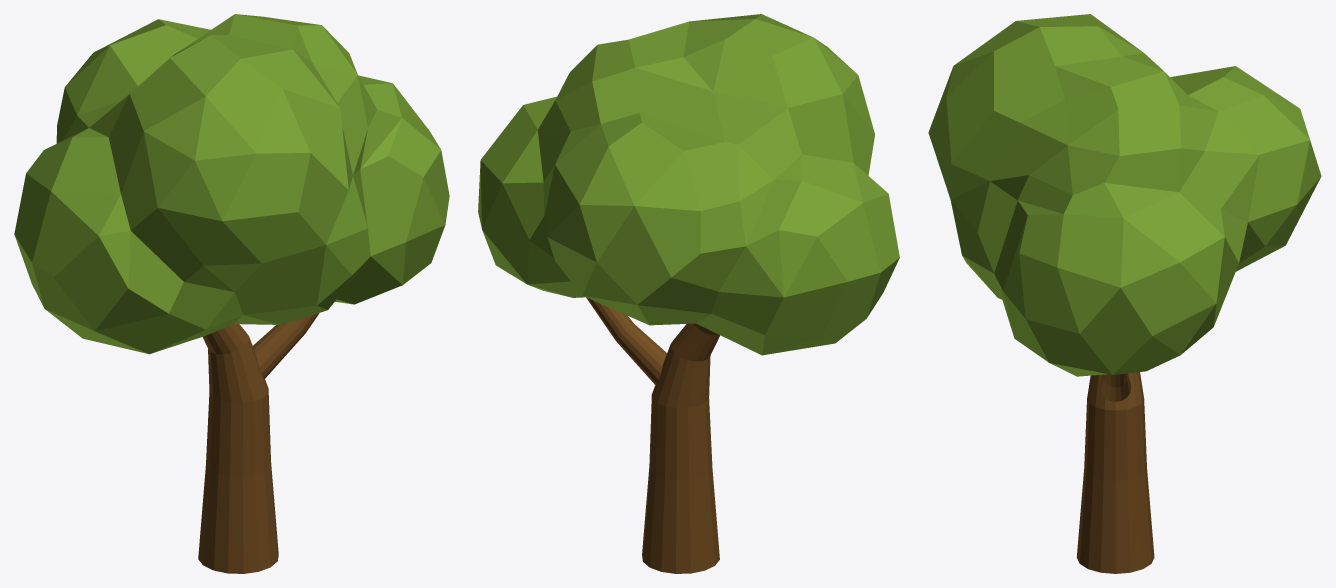
The model's file is tree.glb.
3 views of the same model, side by side, from view 1: azimuth 30°, elevation 25°; view 2: azimuth 150°, elevation 25°; view 3: azimuth 270°, elevation 25° (orthographic). The views are drawn at different scales.
Visible parts, largest first — view 1: tree; view 2: tree; view 3: tree.
Boxes of the visible parts, <box> form: tree: <box>14,14,449,573</box>; tree: <box>478,14,899,573</box>; tree: <box>928,14,1321,573</box>.
Bounding box in the file's own units: 11.27 × 14.46 × 10.02.
Materials: 1 (1 with a texture image).
